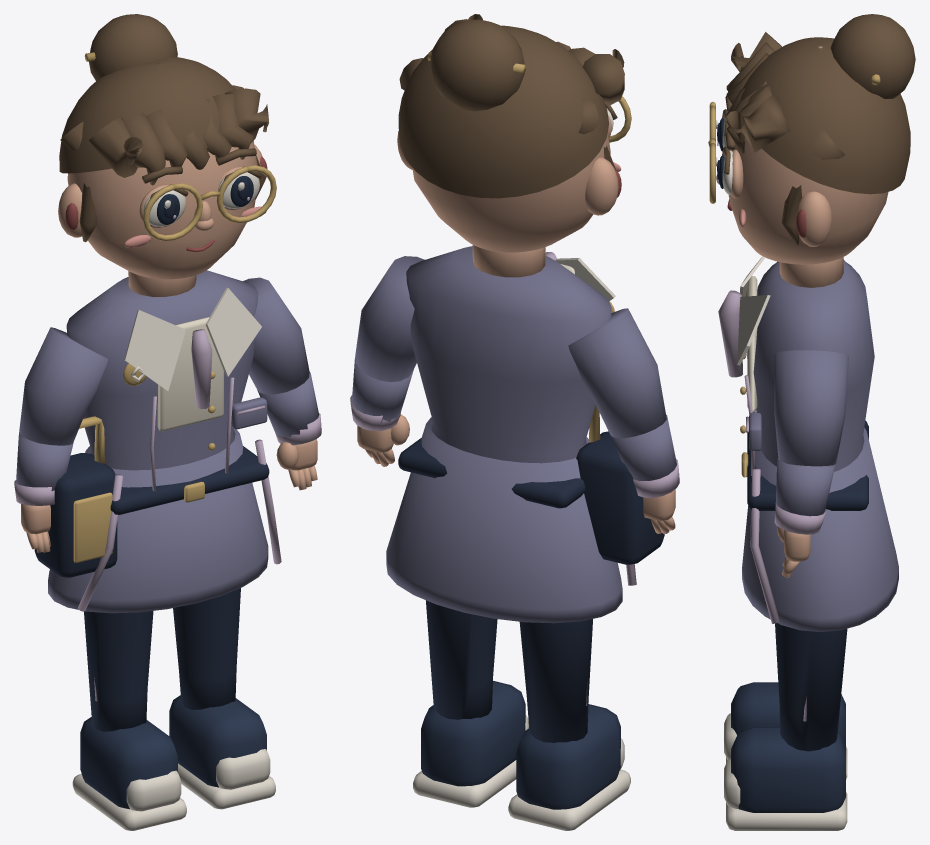
Rendered from npc_graveyard_lieutenant_3.glb.
3 views of the same model, side by side, from view 1: azimuth 30°, elevation 25°; view 2: azimuth 150°, elevation 25°; view 3: azimuth 270°, elevation 25° (orthographic). The views are drawn at different scales.
Parts seen in each view (by area): view 1: figure.057; view 2: figure.057; view 3: figure.057.
Part boxes in pixels (x1,y1,x2,y2): figure.057: [14, 14, 321, 830]; figure.057: [350, 14, 679, 830]; figure.057: [708, 14, 915, 830].
Size of the model in its own units: 0.7221 by 1.72 by 0.4156.
